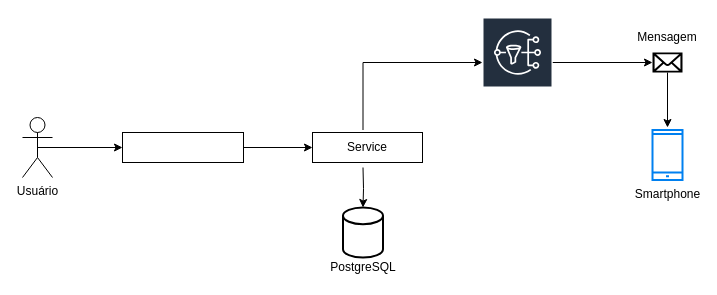
Image size: 717x295. Some labels were removed from this diagram. The shapes that lost their labels are listed below. From the top down, each one's box as (x1, y1, x2, y2) in pixels, then its label:
(482, 16, 552, 108): Amazon SNS
(122, 132, 244, 162): Autenticação
